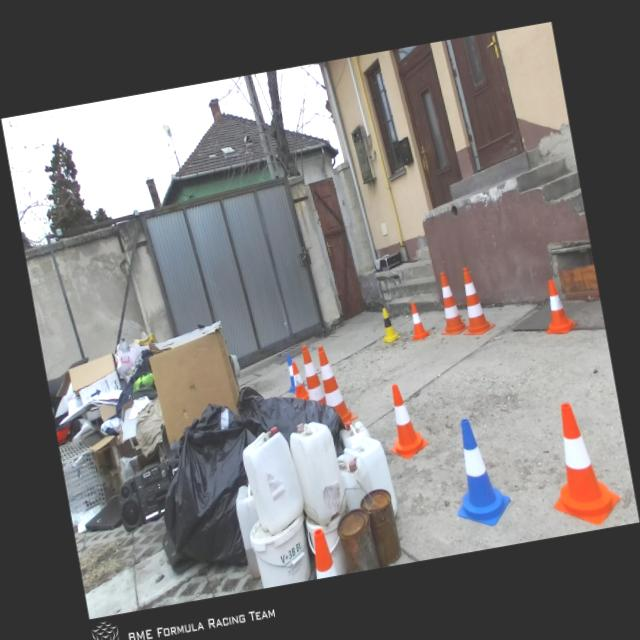blue_cone: (442, 412, 516, 532), (284, 352, 306, 392)
large_orange_cone: (314, 340, 358, 428), (452, 262, 496, 336), (430, 268, 469, 336), (298, 342, 326, 408)
orange_cone: (536, 396, 624, 532), (380, 379, 430, 460), (536, 276, 576, 336), (307, 526, 336, 578), (404, 300, 430, 341), (289, 359, 309, 402)
yellow_cone: (378, 305, 400, 343)
